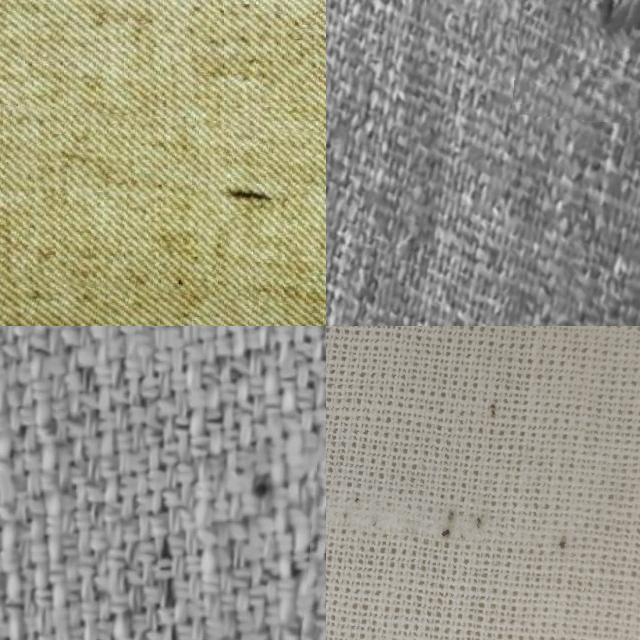other: (516, 0, 640, 132)
stains: (326, 326, 640, 640), (0, 112, 326, 304)
